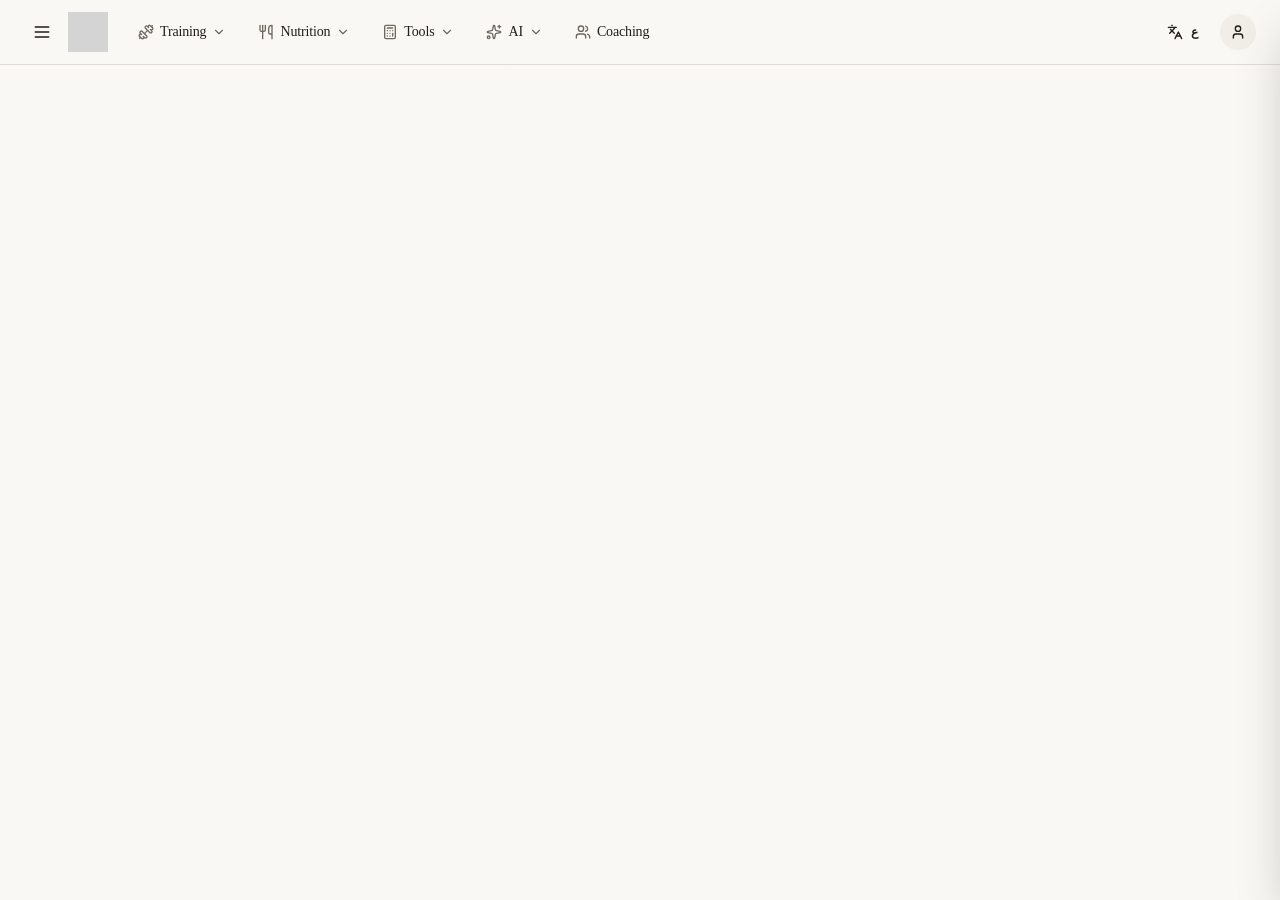
Test: W1-3d behavior — the real header in jsdom › Escape closes — and focus RESTORES to the hamburger
Click the button named "Open menu": {"x": 42, "y": 32} [24, 14, 60, 50]
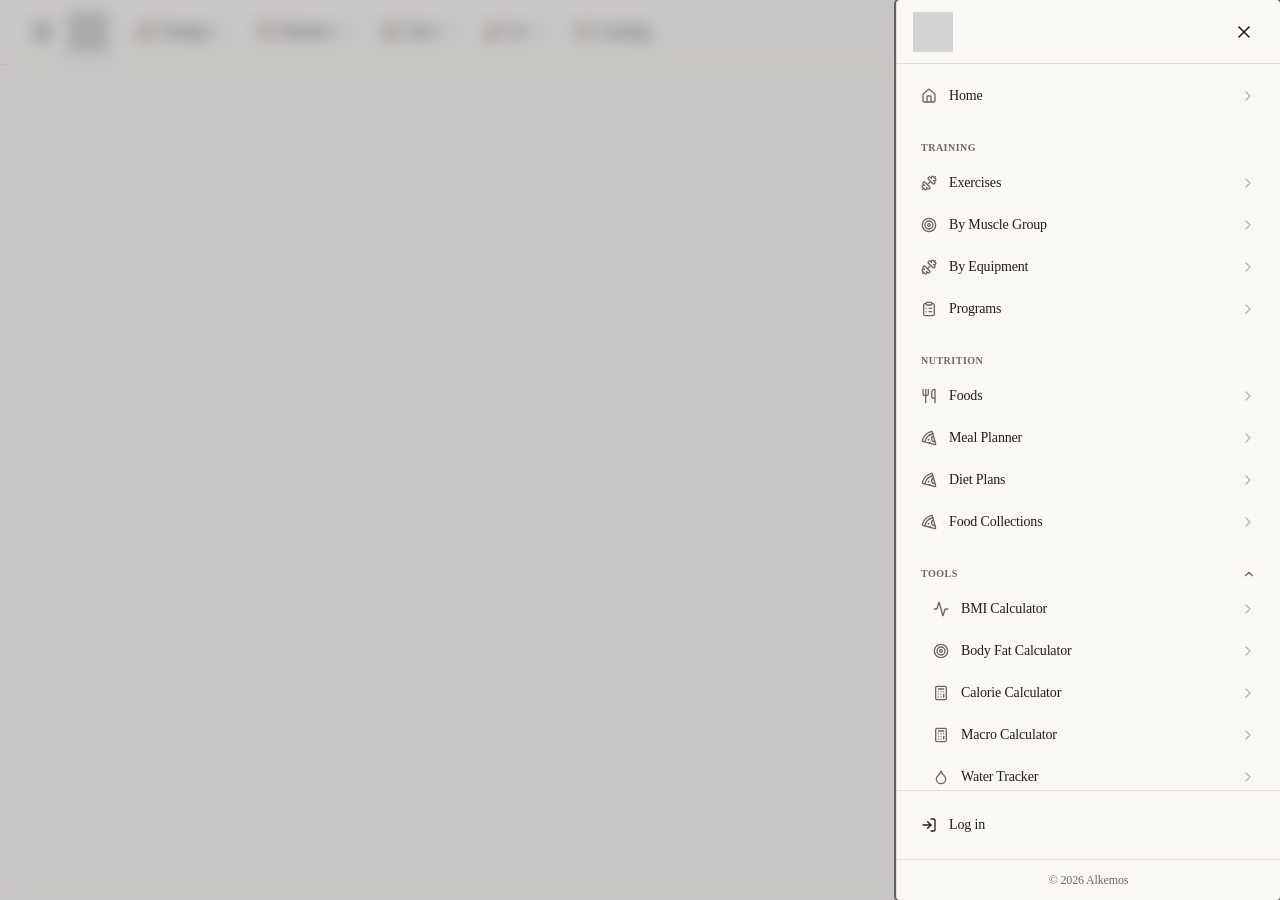
Check: the dialog with id "site-mobile-drawer" is shown, box [896, 0, 1279, 899]
Press Escape
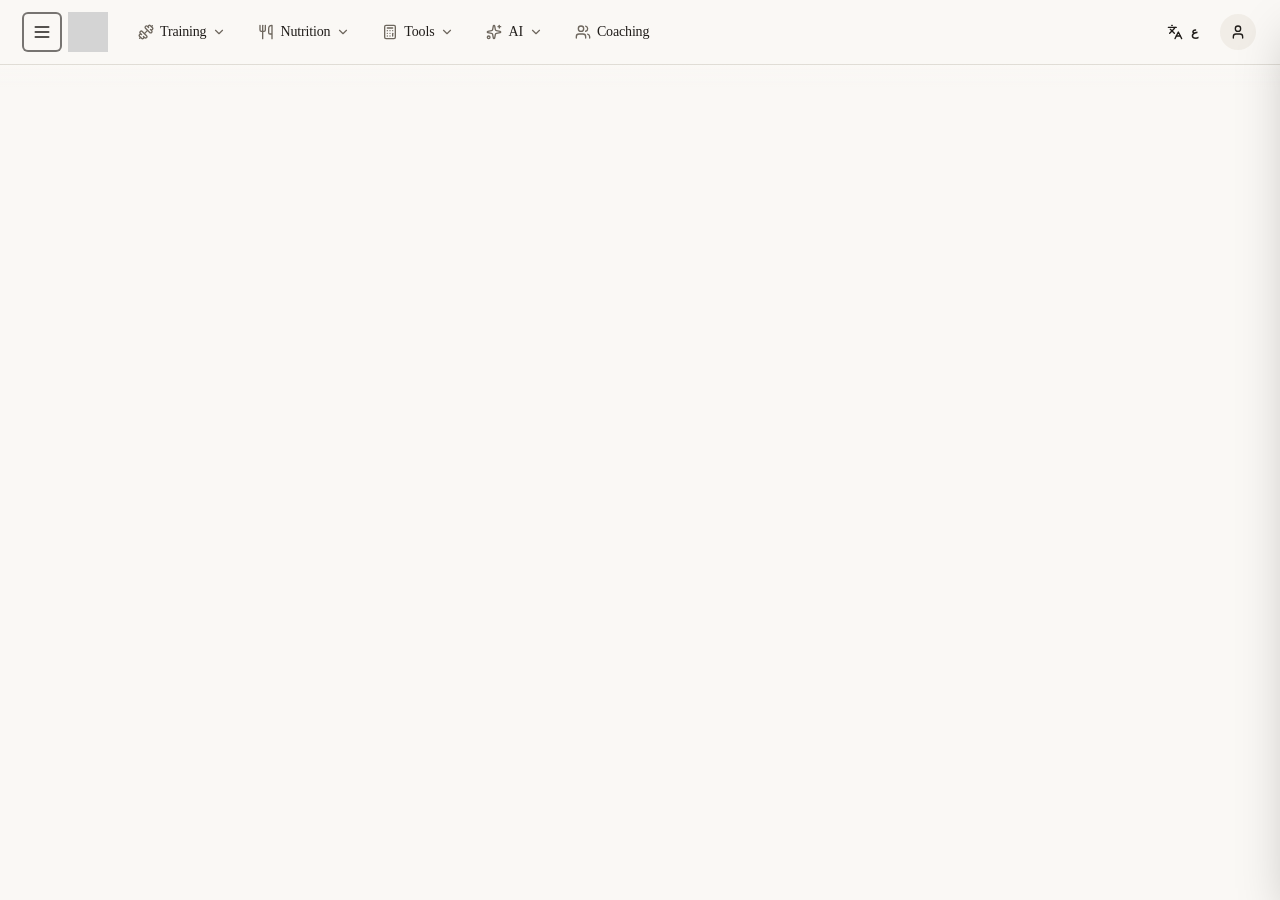
Check: the button named "Open menu" is collapsed, box [24, 14, 60, 50]
